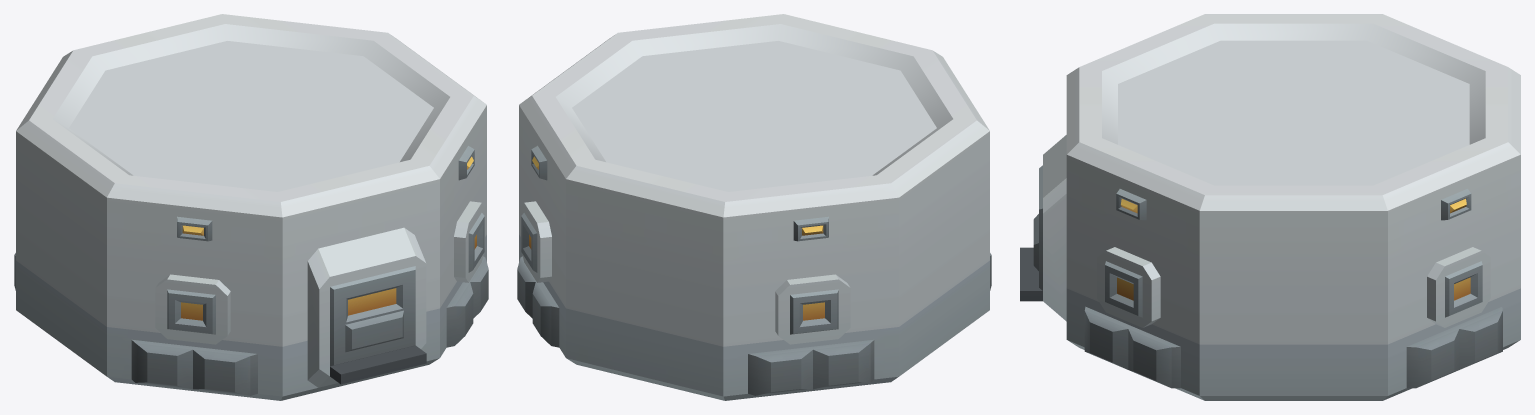
File: basemodule_c.glb
3 renders of one model, left to right at view 1: azimuth 30°, elevation 25°; view 2: azimuth 150°, elevation 25°; view 3: azimuth 270°, elevation 25°, orthographic. The views are drawn at different scales.
Visible parts, largest first — view 1: basemodule_C; view 2: basemodule_C; view 3: basemodule_C.
Boxes of the visible parts, x1,y1,x2,y2 form: basemodule_C: [14, 14, 488, 400]; basemodule_C: [517, 14, 991, 400]; basemodule_C: [1020, 14, 1520, 400].
Bounding box in the file's own units: 2 × 1 × 2.21.
Materials: 1 (1 with a texture image).
